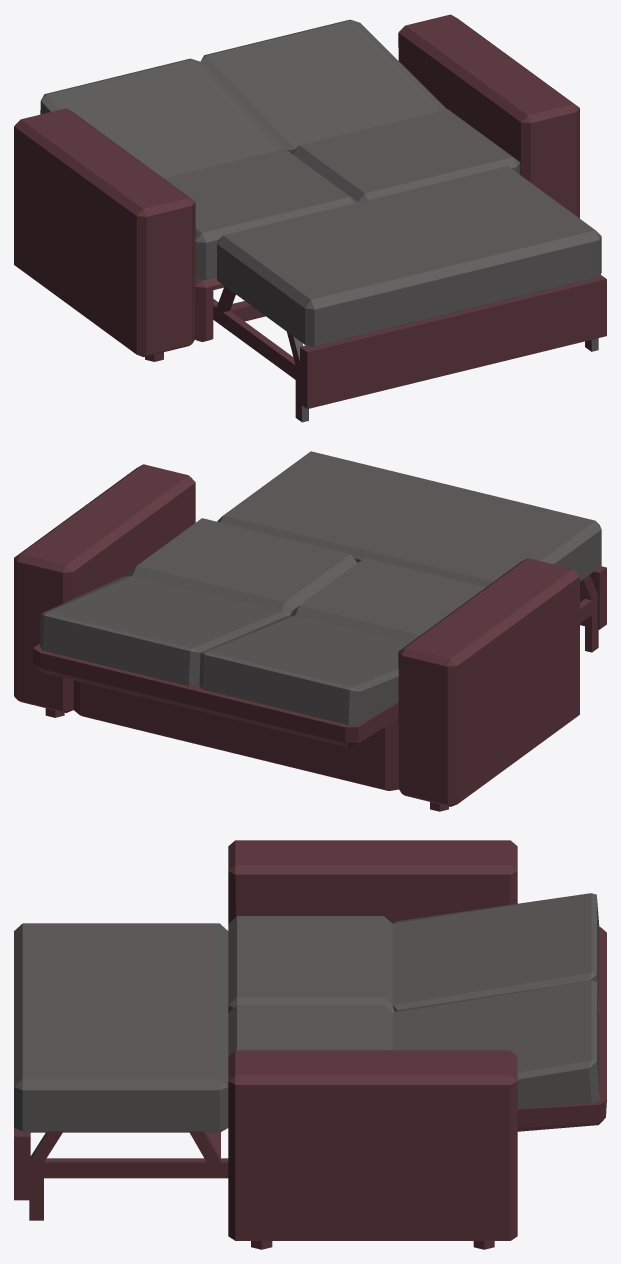
Rendered from sofa-modern-medium-sleep.fbx.
3 renders of one model, top to bottom at view 1: azimuth 30°, elevation 25°; view 2: azimuth 150°, elevation 25°; view 3: azimuth 270°, elevation 25°, orthographic. The views are drawn at different scales.
Visible parts, largest first — view 1: sofa-modern-medium-sleep; view 2: sofa-modern-medium-sleep; view 3: sofa-modern-medium-sleep.
Boxes of the visible parts, bbox=[...] form: sofa-modern-medium-sleep: bbox=[14, 14, 606, 422]; sofa-modern-medium-sleep: bbox=[14, 451, 606, 811]; sofa-modern-medium-sleep: bbox=[14, 840, 606, 1249].
Bounding box in the file's own units: 1.88 × 0.6572 × 1.94.
